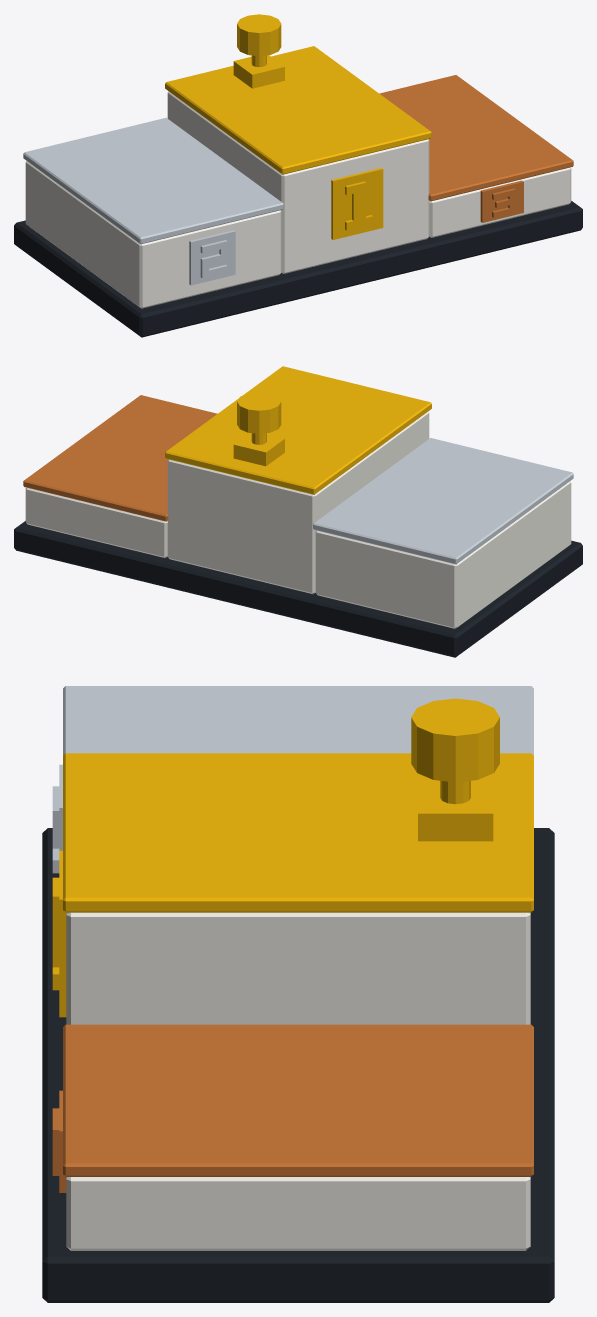
The model's file is derby_winners_podium_3x3.glb.
3 views of the same model, one above another, from view 1: azimuth 30°, elevation 25°; view 2: azimuth 150°, elevation 25°; view 3: azimuth 270°, elevation 25° (orthographic). The views are drawn at different scales.
Visible parts, largest first — view 1: trim_silver, trim_gold, stage_base, step_1st, step_2nd, trim_bronze, step_3rd, plaque_1, trophy_spin, plaque_2, plaque_3; view 2: step_1st, trim_silver, stage_base, step_2nd, trim_gold, trim_bronze, step_3rd, trophy_spin; view 3: trim_bronze, trim_gold, step_1st, stage_base, step_3rd, trim_silver, trophy_spin, plaque_1, plaque_2, plaque_3.
Part boxes in pixels (x1,y1,x2,y2): trim_silver: [23, 117, 283, 244]; trim_gold: [165, 46, 431, 174]; stage_base: [14, 201, 582, 337]; step_1st: [167, 91, 429, 273]; step_2nd: [25, 161, 281, 308]; trim_bronze: [379, 75, 573, 201]; step_3rd: [429, 167, 571, 237]; plaque_1: [331, 168, 383, 239]; trophy_spin: [233, 14, 284, 88]; plaque_2: [189, 230, 235, 285]; plaque_3: [480, 180, 523, 222]; step_1st: [167, 411, 429, 594]; trim_silver: [313, 438, 573, 564]; stage_base: [14, 521, 582, 657]; step_2nd: [315, 481, 571, 628]; trim_gold: [165, 366, 431, 494]; trim_bronze: [23, 395, 217, 521]; step_3rd: [25, 487, 167, 557]; trophy_spin: [233, 392, 284, 466]; trim_bronze: [63, 1024, 533, 1176]; trim_gold: [63, 753, 533, 912]; step_1st: [66, 912, 530, 1024]; stage_base: [42, 828, 554, 1302]; step_3rd: [66, 1177, 530, 1250]; trim_silver: [63, 686, 533, 755]; trophy_spin: [411, 698, 499, 841]; plaque_1: [52, 850, 66, 1017]; plaque_2: [52, 764, 62, 873]; plaque_3: [52, 1090, 66, 1192].
Size of the model in its own units: 3 by 1.2 by 1.5.
